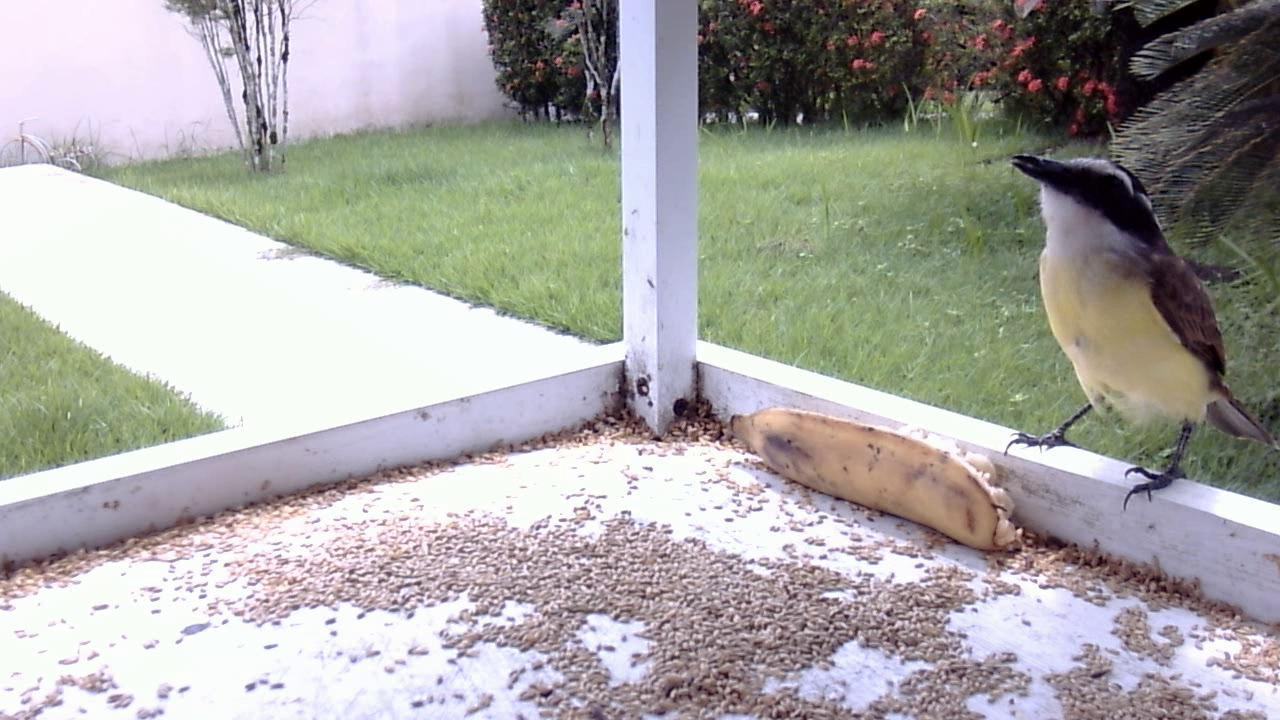bem_te_vi: (995, 137, 1274, 527)
